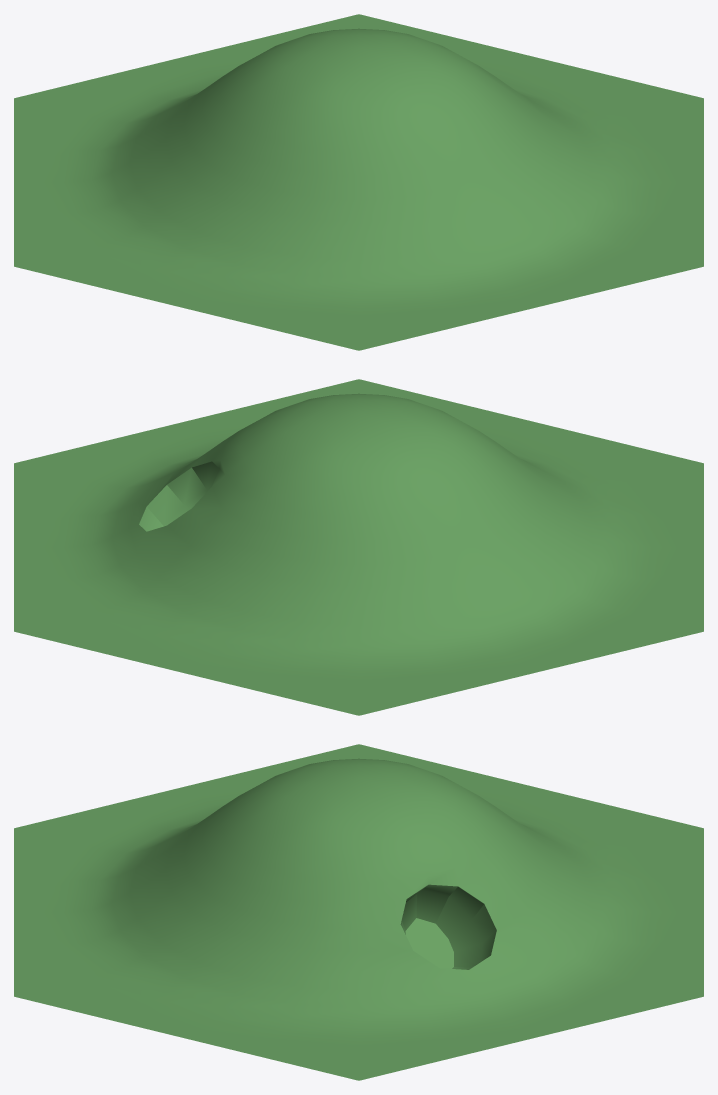
Rendered from t_hillcave.fbx.
The picture shows the model from 3 angles, top to bottom: view 1: azimuth 30°, elevation 25°; view 2: azimuth 150°, elevation 25°; view 3: azimuth 270°, elevation 25°; orthographic projection.
Visible parts, largest first — view 1: t_hillcave; view 2: t_hillcave; view 3: t_hillcave.
Part boxes in pixels (left/top/right/bottom): t_hillcave: left=14, top=14, right=703, bottom=350; t_hillcave: left=14, top=379, right=703, bottom=715; t_hillcave: left=14, top=744, right=703, bottom=1080.
Bounding box in the file's own units: 20000 × 3792 × 17321.
